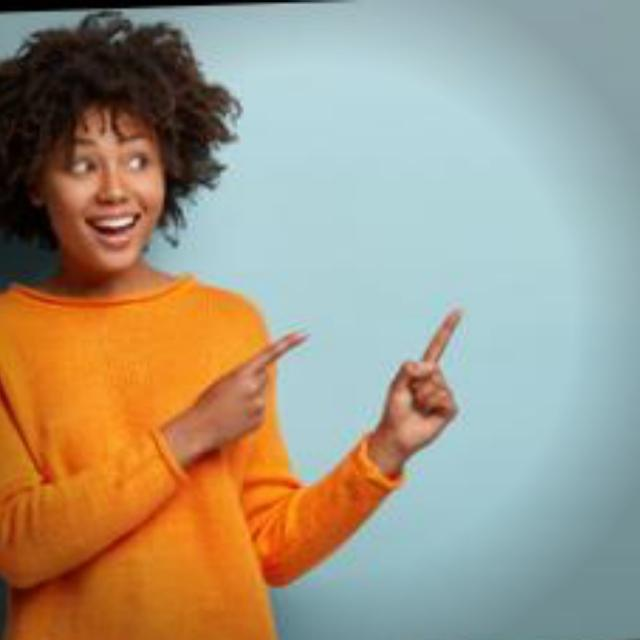Happy: (50, 112, 267, 307)
